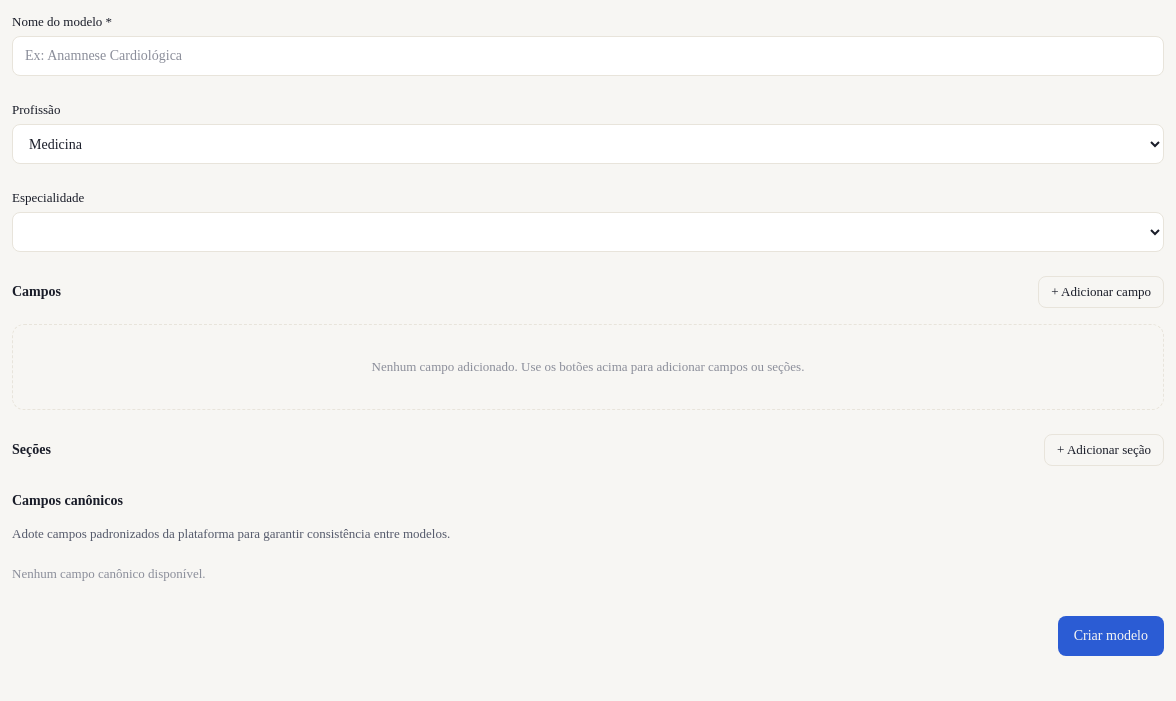
Test: TemplateForm (integration) › create mode › shows validation error when name is empty on submit
The image size is (1176, 701).
Click the button with test id "template-form-submit": {"x": 1111, "y": 636} [1058,616,1164,656]
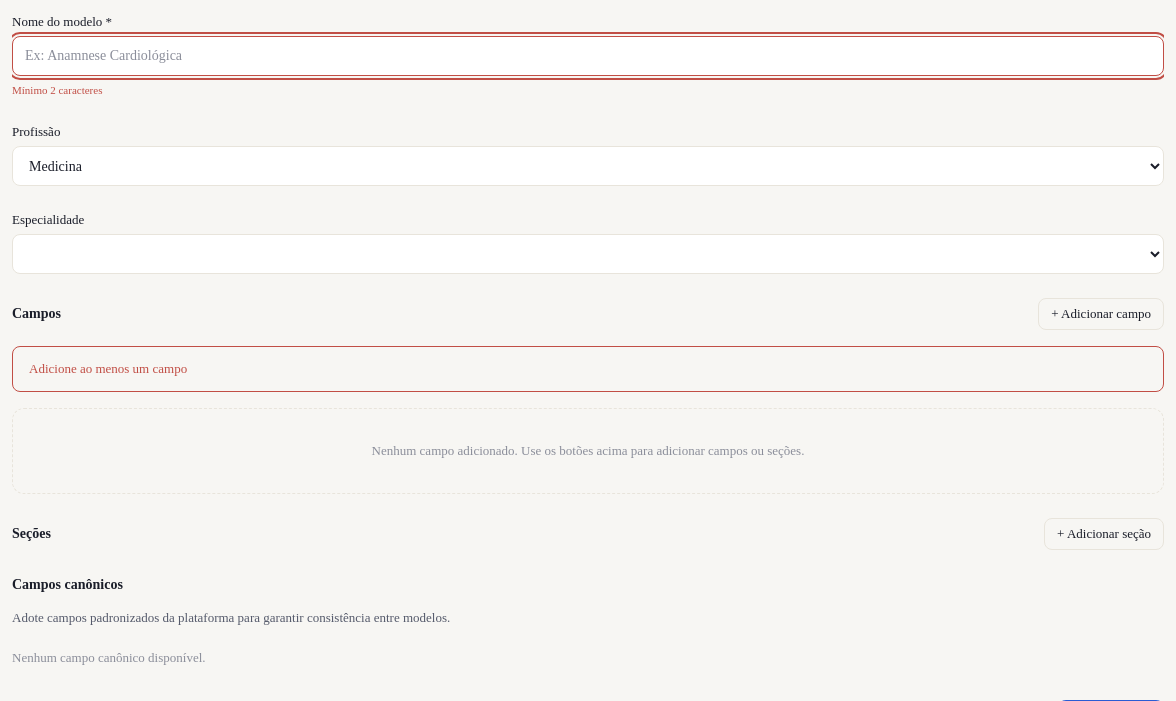
Expected: the text "Mínimo 2 caracteres" is shown, [12,84,102,96]
